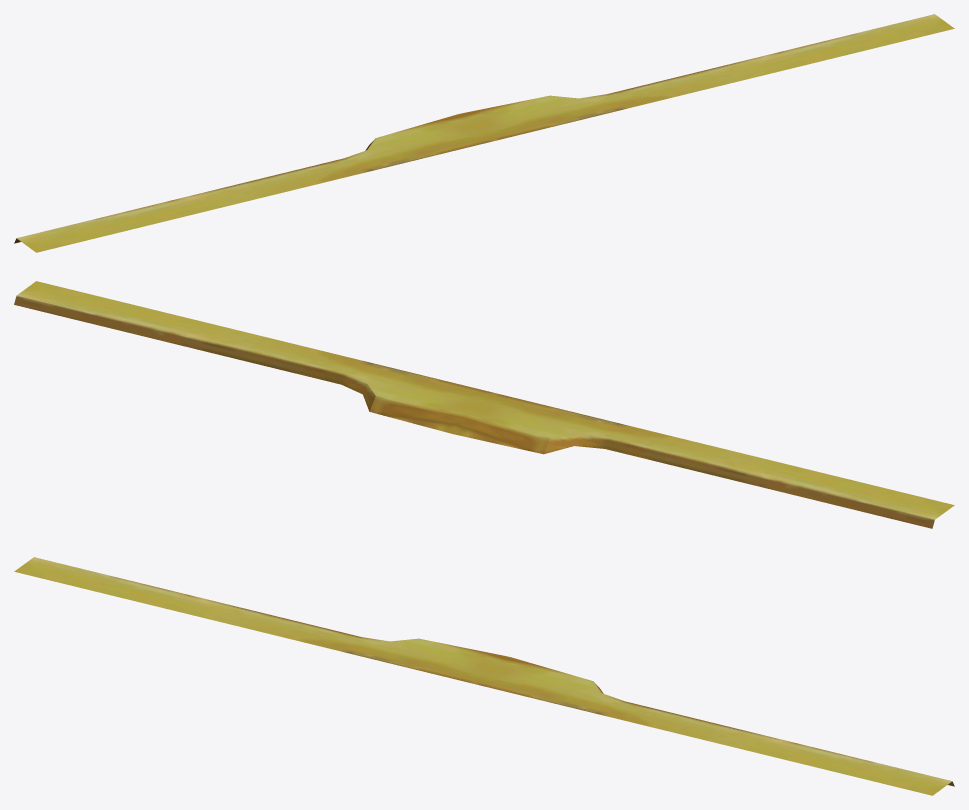
The model's file is S_Build_City009.FBX.
3 views of the same model, one above another, from view 1: azimuth 30°, elevation 25°; view 2: azimuth 150°, elevation 25°; view 3: azimuth 330°, elevation 25° (orthographic).
Parts seen in each view (by area): view 1: S_Build_City009; view 2: S_Build_City009; view 3: S_Build_City009.
Boxes of the visible parts, bbox=[...] form: S_Build_City009: bbox=[14, 14, 954, 252]; S_Build_City009: bbox=[14, 281, 954, 528]; S_Build_City009: bbox=[14, 557, 954, 795].
Size of the model in its own units: 2339 by 27.51 by 190.
